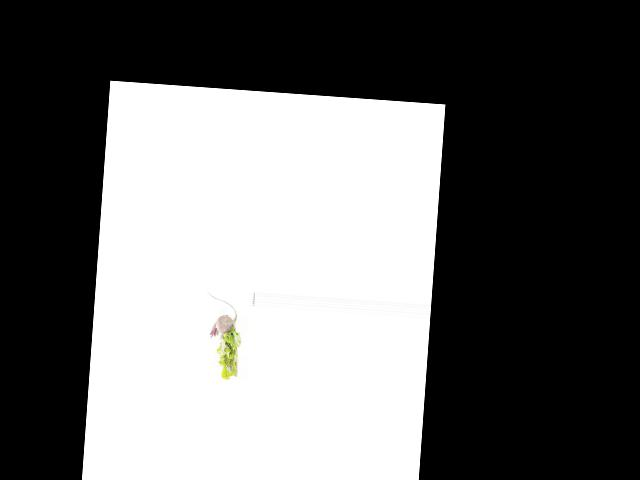beet: (204, 290, 238, 339)
